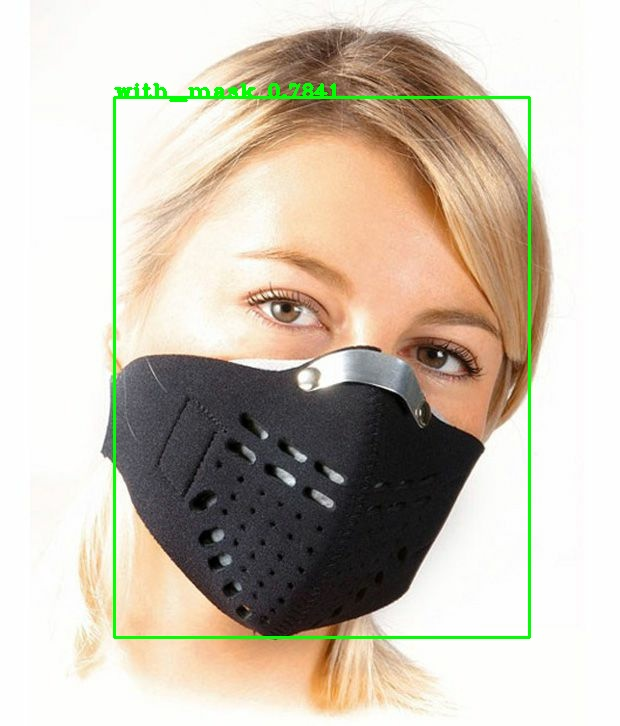with_mask: (96, 133, 524, 665)
